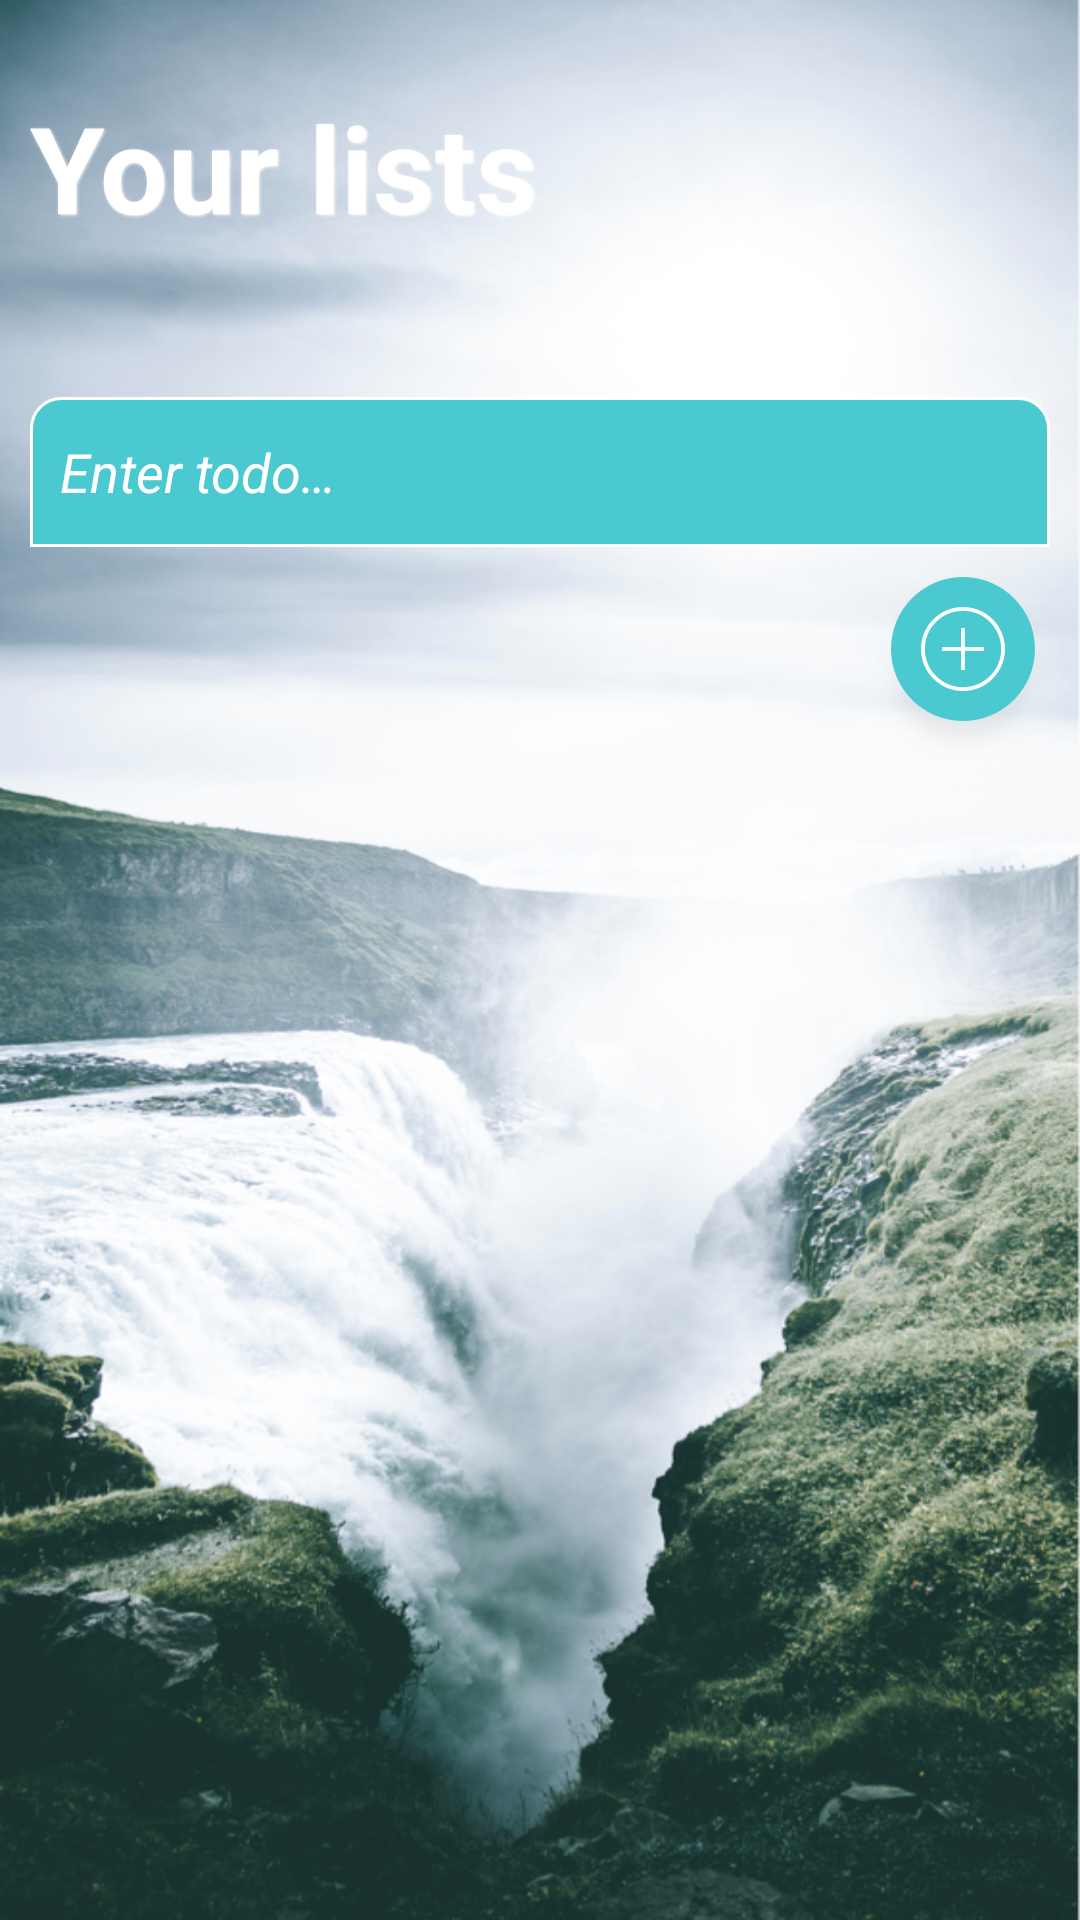

Named icons in this screenshot (1080 x 1920) and their centers, (x,y):
add: (970,649)
